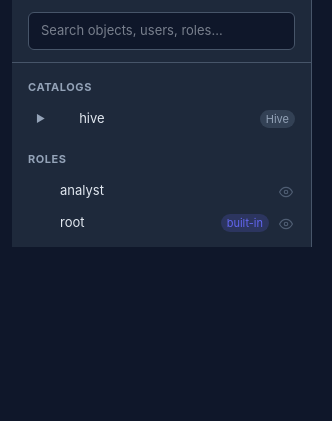
it: Sidebar (populated) › expands a catalog → databases, then a database → grouped objects
Click the text "hive". click: (92, 118)
box: [79,110,105,126]
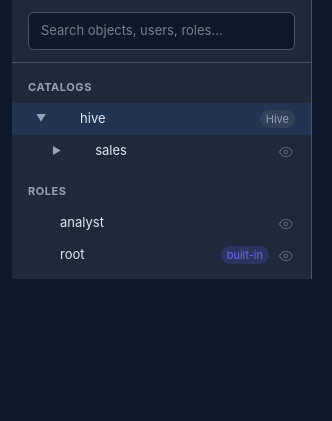
Click the text "sales". click: (111, 150)
box: [95,142,127,158]
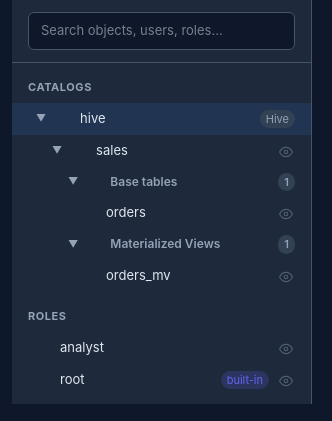
expect the text "orders" is shown: met, box [106,204,146,220]
expect the text "orders_mv" is shown: met, box [106,267,171,283]
expect the text "Materialized Views" is shown: met, box [110,236,220,251]
